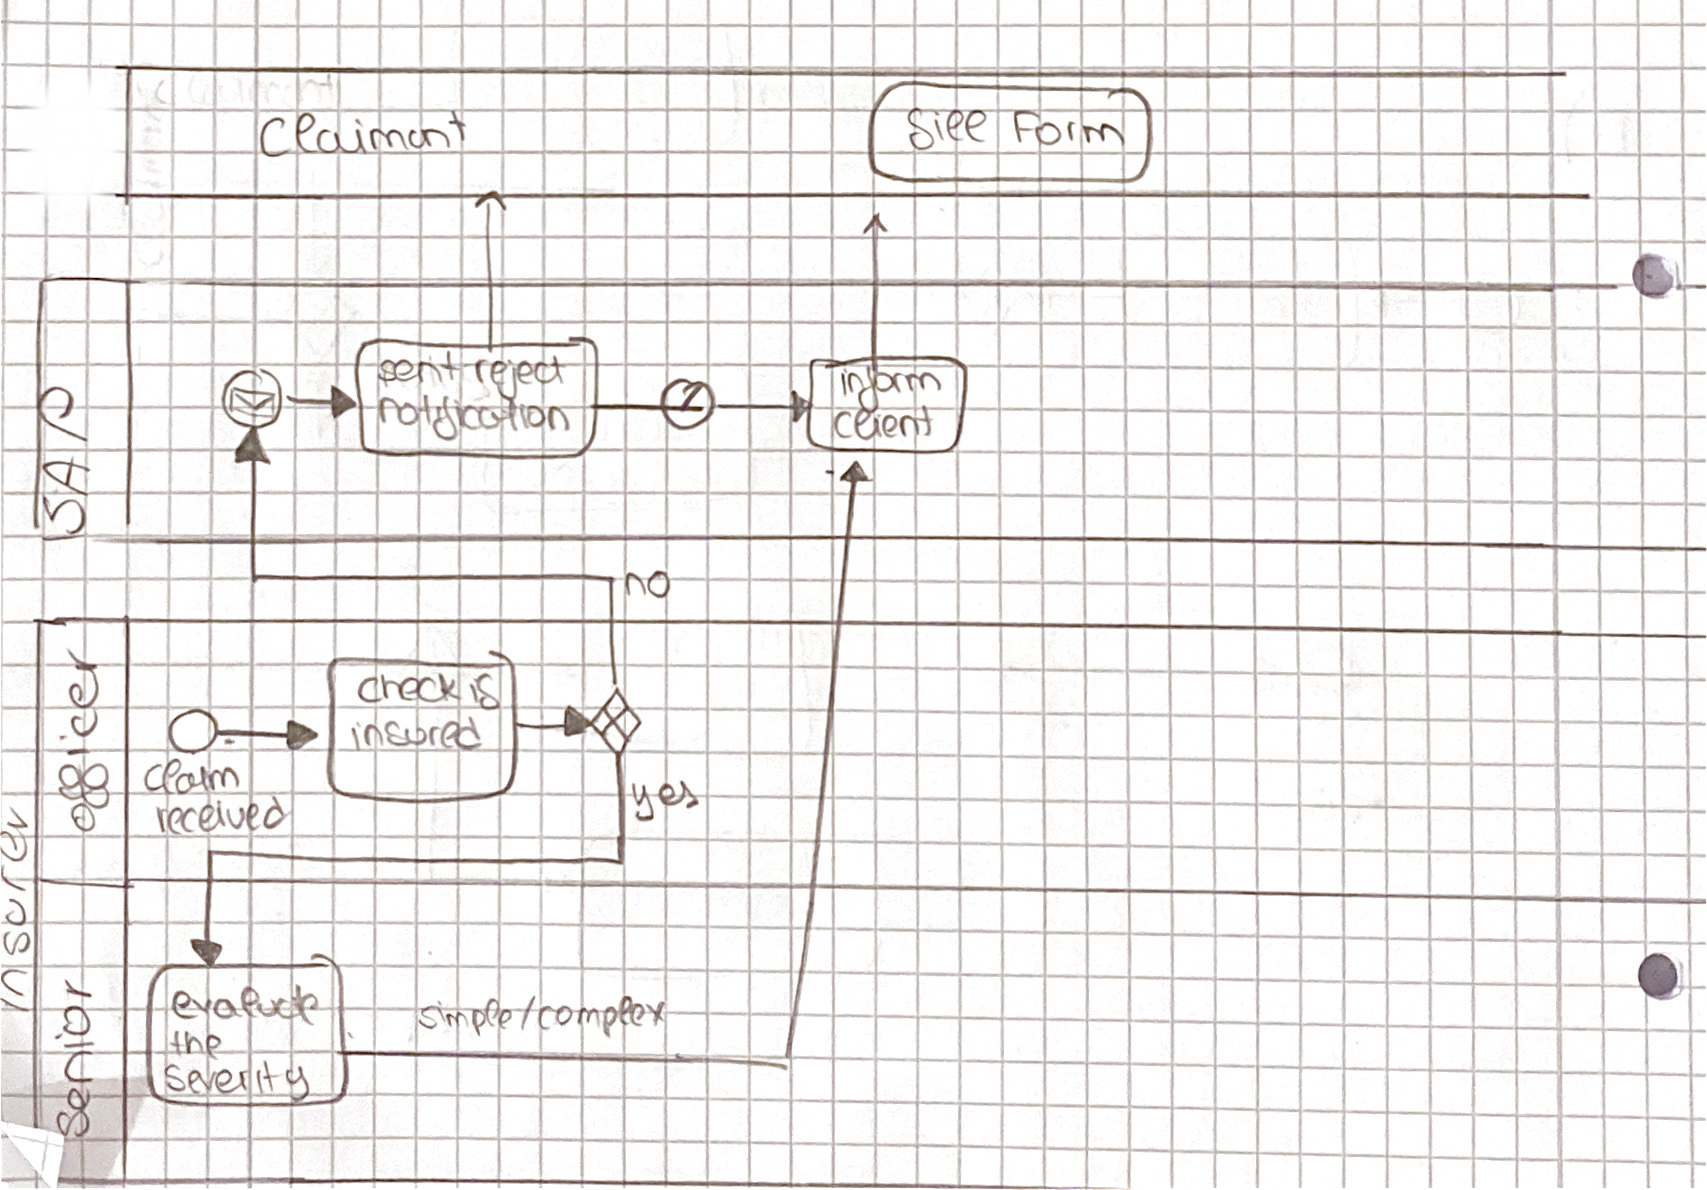Claiment: (263, 109, 466, 157)
Form: (1010, 110, 1125, 151)
Insurer: (1, 795, 32, 1016)
SAP: (35, 374, 95, 552)
Severity: (163, 1063, 311, 1099)
cearm: (141, 757, 244, 795)
check: (361, 671, 454, 711)
client: (831, 404, 933, 443)
complex: (534, 991, 671, 1036)
evaluate: (163, 971, 329, 1036)
fill: (909, 106, 997, 149)
inform: (841, 365, 942, 398)
insured: (342, 715, 480, 753)
is: (460, 671, 505, 712)
no: (629, 568, 671, 602)
notification: (376, 395, 571, 437)
officer: (54, 642, 106, 833)
received: (149, 795, 287, 838)
reject: (470, 353, 567, 395)
senior: (54, 981, 101, 1132)
sent: (376, 354, 464, 392)
simple: (419, 994, 511, 1039)
the: (165, 1026, 227, 1060)
yes: (624, 768, 699, 827)
